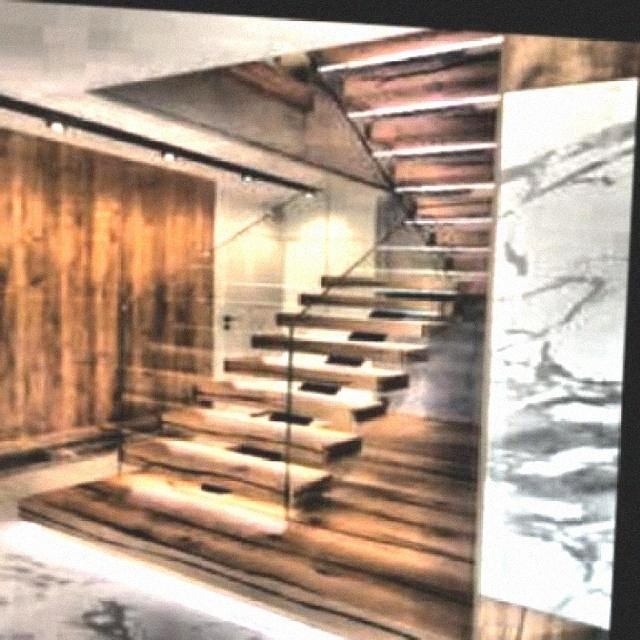stair: (76, 254, 458, 526)
